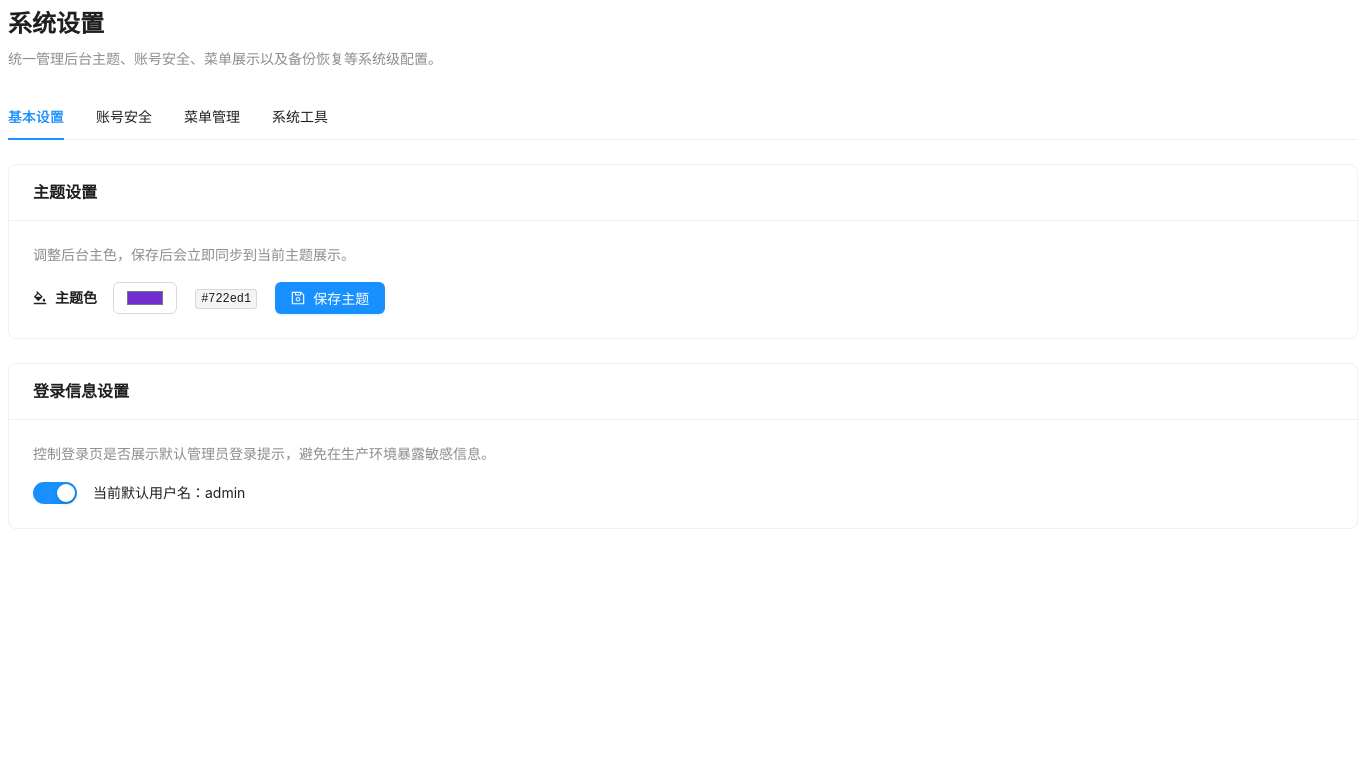
it: SystemSettingsPage › renders fetched menu settings in the menu management tab
Click the tab "菜单管理" at point(212, 117), box [184,106,240,128]
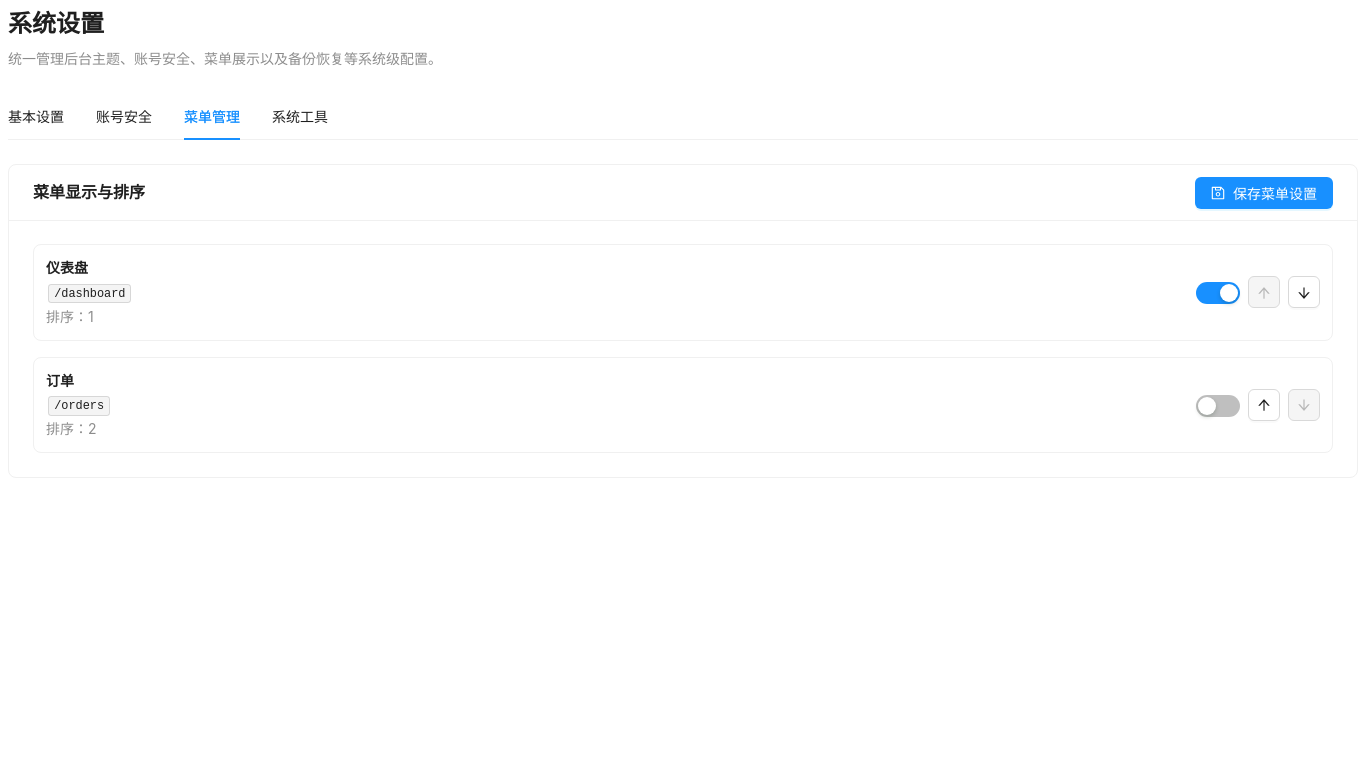
Now the text "仪表盘" is shown, box [46,259,88,276]
Now the text "订单" is shown, box [46,372,74,389]
Now the button "保存菜单设置" is shown, box [1195,176,1333,208]
